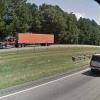Car: (86, 48, 100, 81)
